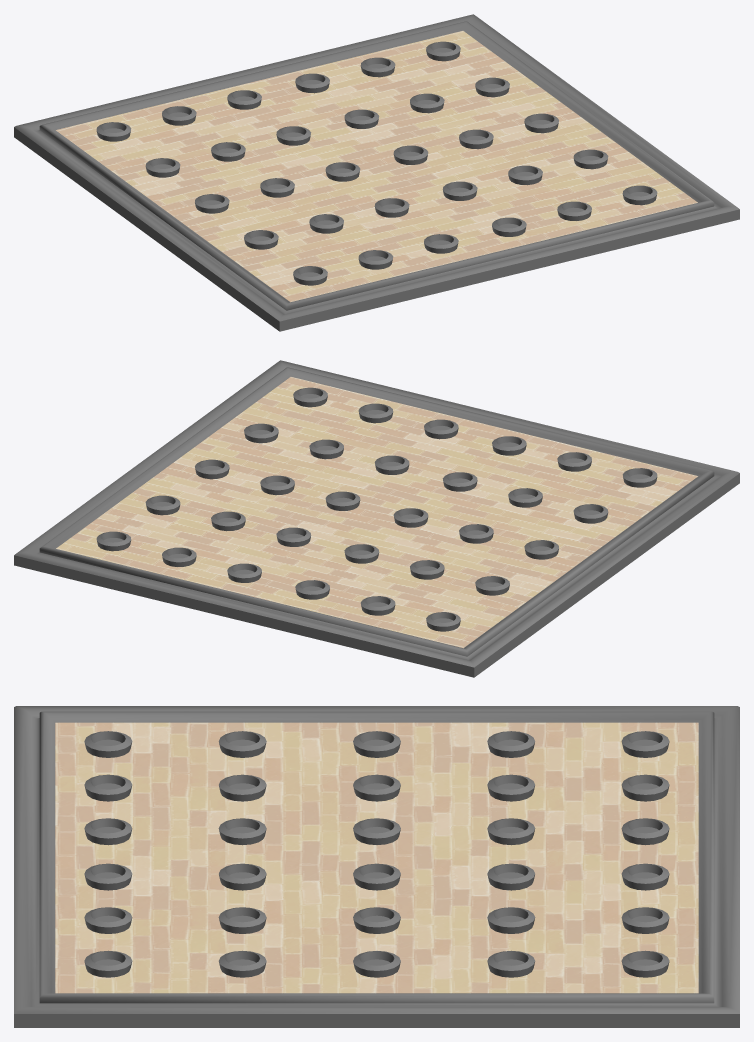
The model's file is SM_spike_trap_floor.fbx.
3 views of the same model, one above another, from view 1: azimuth 30°, elevation 25°; view 2: azimuth 150°, elevation 25°; view 3: azimuth 270°, elevation 25° (orthographic). The views are drawn at different scales.
Parts seen in each view (by area): view 1: Box460; view 2: Box460; view 3: Box460.
Part boxes in pixels (x1=…): Box460: x1=14, y1=14, x2=739, y2=331; Box460: x1=14, y1=360, x2=739, y2=677; Box460: x1=14, y1=706, x2=739, y2=1027.
Bounding box in the file's own units: 138 × 5.42 × 138.
